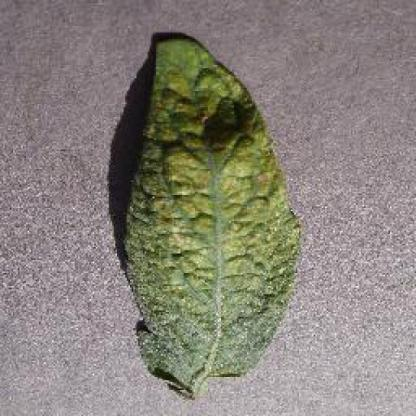Tomato_Spider_Mites: (127, 42, 302, 391)
